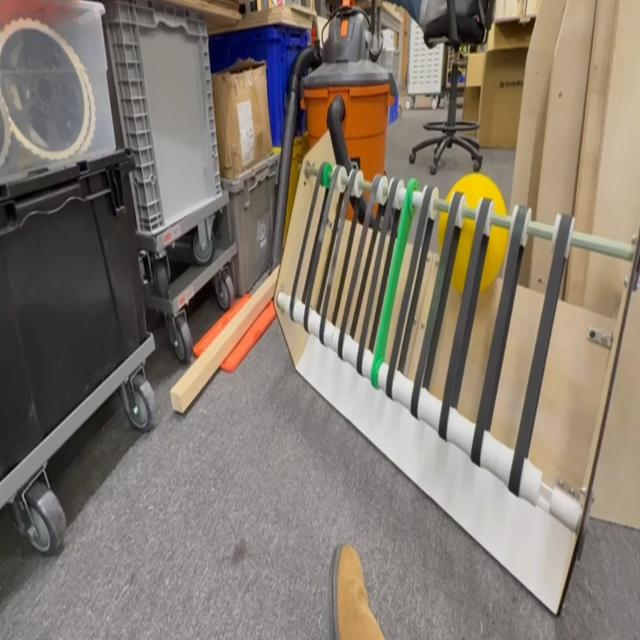Fuel: (436, 173, 508, 292)
